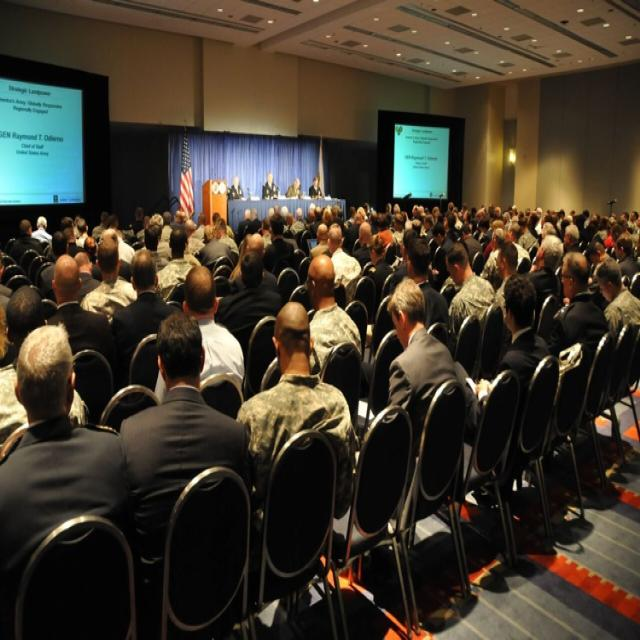body: (48, 199, 640, 279), (117, 308, 252, 639), (0, 322, 132, 640), (235, 299, 358, 522), (450, 269, 553, 483), (153, 264, 246, 408), (108, 247, 184, 405), (380, 274, 459, 425), (42, 252, 112, 370), (0, 284, 49, 445), (304, 253, 362, 377), (550, 248, 608, 359), (443, 239, 498, 351), (79, 234, 139, 324), (219, 249, 284, 329), (522, 231, 566, 333), (406, 234, 450, 330), (592, 254, 640, 330), (230, 231, 278, 296), (154, 225, 196, 298), (365, 231, 395, 324), (326, 221, 363, 292), (38, 228, 70, 304), (493, 240, 520, 326), (262, 212, 295, 275), (8, 217, 44, 266), (73, 252, 103, 304), (100, 212, 126, 266), (506, 220, 533, 272), (613, 230, 640, 282), (0, 240, 11, 366), (458, 221, 485, 269), (307, 221, 334, 267), (140, 220, 173, 257), (586, 239, 610, 285), (431, 222, 450, 278), (351, 220, 373, 268), (516, 214, 540, 256), (91, 208, 111, 242), (562, 222, 581, 254), (31, 215, 52, 243), (74, 218, 90, 250), (262, 171, 279, 199), (618, 208, 630, 246), (227, 175, 244, 200), (285, 178, 303, 200), (308, 175, 323, 198), (628, 209, 639, 229)
